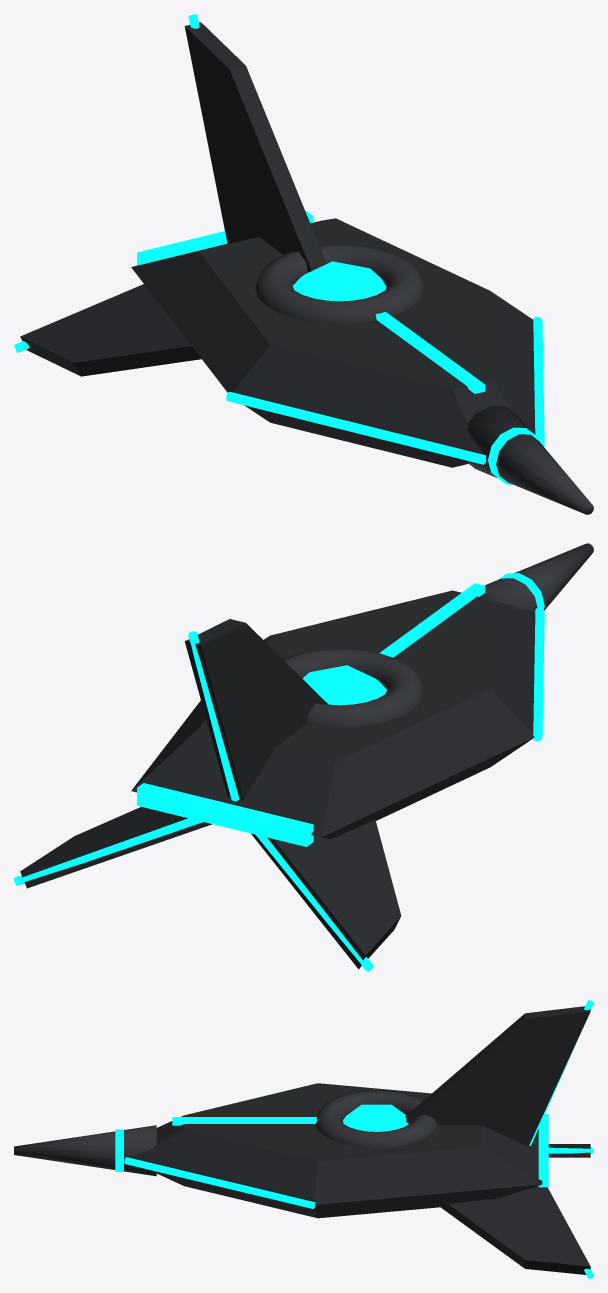
File: scout.glb
3 views of the same model, one above another, from view 1: azimuth 30°, elevation 25°; view 2: azimuth 150°, elevation 25°; view 3: azimuth 270°, elevation 25° (orthographic). The views are drawn at different scales.
Visible parts, largest first — view 1: Hull_Arrowhead, Fin_Dorsal, Fin_Port, Core_RingTop, Prow_Sensor, Seam_LeadingEdge_Port, Core_Emissive, Seam_Spine, Seam_TailBar, Seam_LeadingEdge_Stbd, Prow_SeamBand; view 2: Hull_Arrowhead, Fin_Dorsal, Fin_Port, Core_RingTop, Fin_Starboard, Seam_TailBar, Prow_Sensor, Core_Emissive, Fin_Starboard_Seam, Seam_Spine, Seam_LeadingEdge_Port, Fin_Dorsal_Seam (+1 smaller); view 3: Hull_Arrowhead, Fin_Dorsal, Fin_Starboard, Core_RingTop, Prow_Sensor, Seam_LeadingEdge_Stbd, Core_Emissive, Seam_Spine, Seam_TailBar, Fin_Port, Prow_SeamBand.
Part boxes in pixels (x1,y1,x2,y2): Hull_Arrowhead: (131, 218, 535, 467); Fin_Dorsal: (184, 22, 326, 272); Fin_Port: (20, 284, 201, 376); Core_RingTop: (255, 245, 424, 323); Prow_Sensor: (467, 405, 593, 514); Seam_LeadingEdge_Port: (226, 392, 486, 464); Core_Emissive: (293, 261, 386, 301); Seam_Spine: (375, 312, 485, 393); Seam_TailBar: (137, 211, 313, 265); Seam_LeadingEdge_Stbd: (533, 316, 544, 446); Prow_SeamBand: (488, 427, 542, 484); Hull_Arrowhead: (131, 590, 535, 839); Fin_Dorsal: (184, 619, 328, 800); Fin_Port: (251, 819, 401, 969); Core_RingTop: (283, 649, 424, 727); Fin_Starboard: (20, 790, 253, 888); Seam_TailBar: (137, 783, 313, 846); Prow_Sensor: (480, 543, 593, 611); Core_Emissive: (302, 665, 386, 705); Fin_Starboard_Seam: (14, 818, 202, 885); Seam_Spine: (379, 583, 485, 657); Seam_LeadingEdge_Port: (533, 607, 544, 741); Fin_Dorsal_Seam: (188, 631, 239, 801); Hull_Arrowhead: (131, 1083, 542, 1218); Fin_Dorsal: (405, 1006, 590, 1146); Fin_Starboard: (441, 1186, 590, 1274); Core_RingTop: (315, 1091, 437, 1148); Prow_Sensor: (14, 1125, 156, 1176); Seam_LeadingEdge_Stbd: (124, 1157, 315, 1208); Core_Emissive: (343, 1104, 408, 1131); Seam_Spine: (172, 1117, 316, 1125); Seam_TailBar: (538, 1114, 548, 1187); Fin_Port: (548, 1144, 590, 1157); Prow_SeamBand: (115, 1129, 123, 1171).
Bounding box in the file's own units: 1.04 × 0.8202 × 2.
